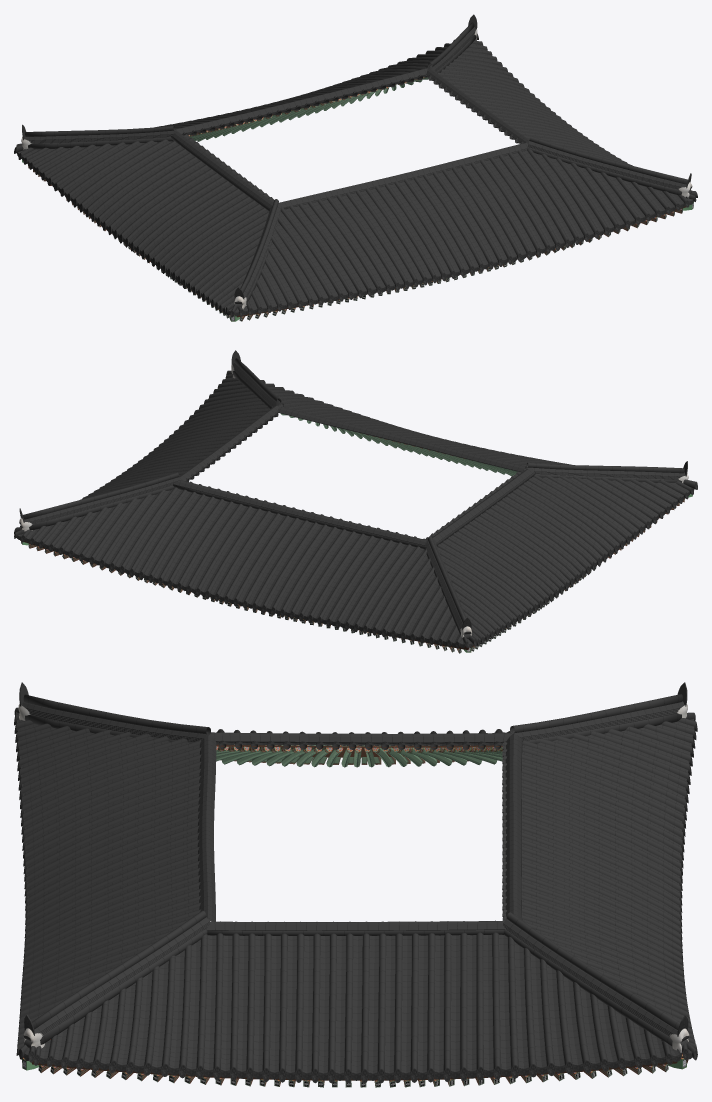
Rendered from SM_Geumsan_Mi_Roof_B.fbx.
3 views of the same model, one above another, from view 1: azimuth 30°, elevation 25°; view 2: azimuth 150°, elevation 25°; view 3: azimuth 270°, elevation 25° (orthographic). The views are drawn at different scales.
Visible parts, largest first — view 1: SM_Geumsan_Mi_Roof_B; view 2: SM_Geumsan_Mi_Roof_B; view 3: SM_Geumsan_Mi_Roof_B.
Part boxes in pixels (<box>): SM_Geumsan_Mi_Roof_B: <box>14,14,697,321</box>; SM_Geumsan_Mi_Roof_B: <box>14,350,697,653</box>; SM_Geumsan_Mi_Roof_B: <box>14,682,697,1087</box>.
Bounding box in the file's own units: 2118 × 308 × 1751.
